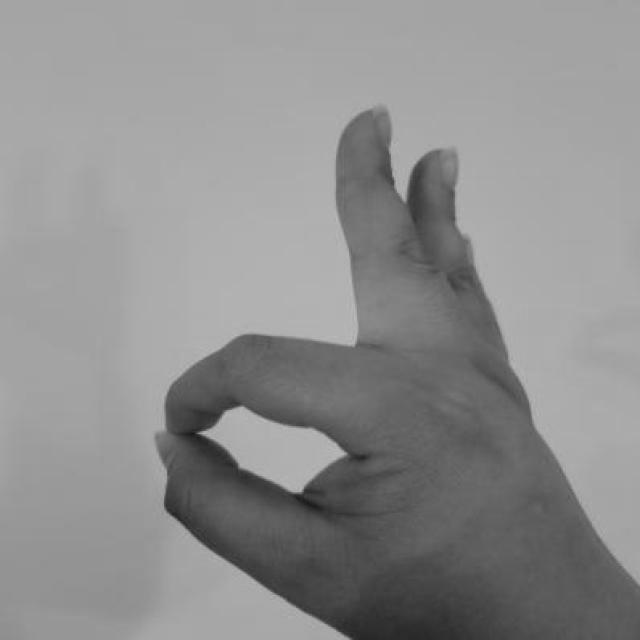F: (137, 94, 637, 639)
